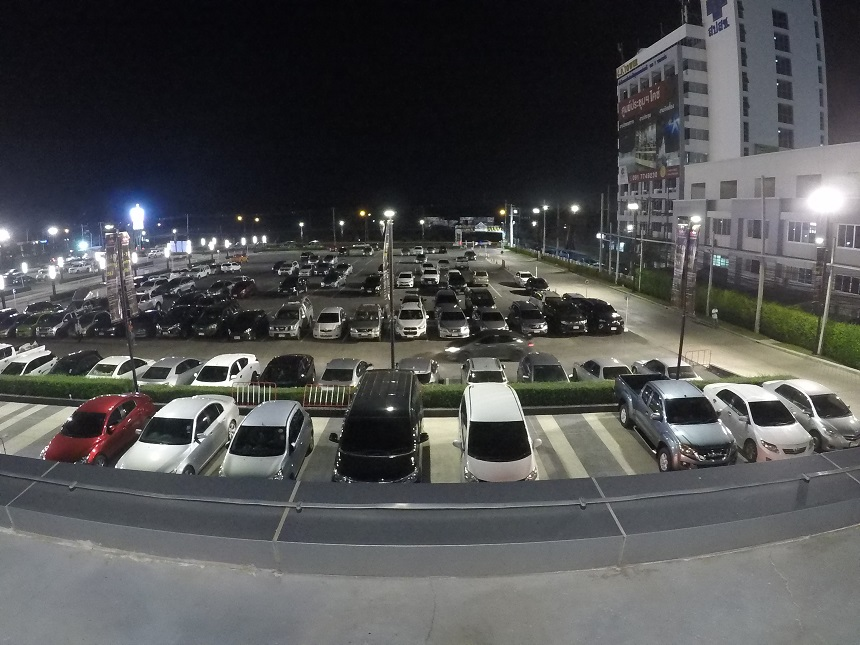busy: (334, 422, 423, 478), (457, 430, 543, 478), (228, 425, 301, 473), (139, 421, 213, 466), (55, 413, 124, 459), (661, 420, 730, 461), (743, 412, 810, 454), (816, 414, 860, 446), (206, 354, 253, 382), (515, 356, 563, 380), (151, 355, 192, 383), (267, 357, 311, 381), (460, 358, 508, 379), (321, 358, 364, 380), (270, 310, 301, 339), (105, 353, 142, 377), (59, 348, 95, 372), (347, 316, 383, 340), (591, 312, 627, 336), (309, 313, 342, 339), (436, 317, 470, 340), (397, 360, 438, 379), (20, 353, 53, 376), (227, 316, 259, 339), (396, 313, 427, 336), (586, 357, 623, 376), (649, 356, 688, 374), (191, 317, 219, 341), (556, 313, 587, 334), (477, 317, 510, 334), (156, 321, 187, 339), (521, 317, 548, 335), (66, 319, 90, 336), (36, 322, 59, 338), (128, 320, 150, 336), (96, 321, 118, 336), (15, 323, 34, 339), (1, 346, 16, 365), (1, 324, 11, 339)
